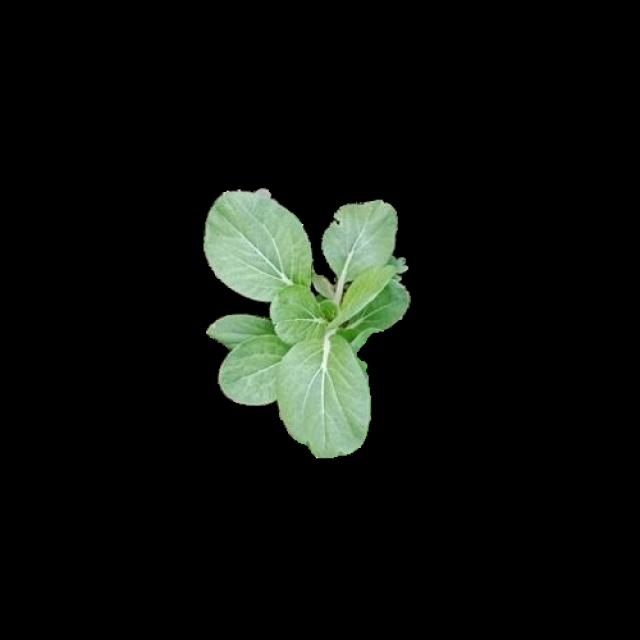healthy: (201, 186, 411, 454)
not-mature: (204, 188, 414, 457)
